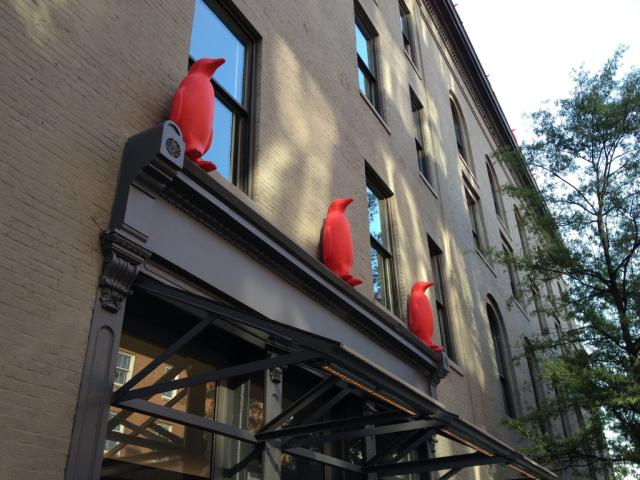Bird: (168, 52, 226, 172), (321, 195, 366, 287), (412, 276, 443, 353)
